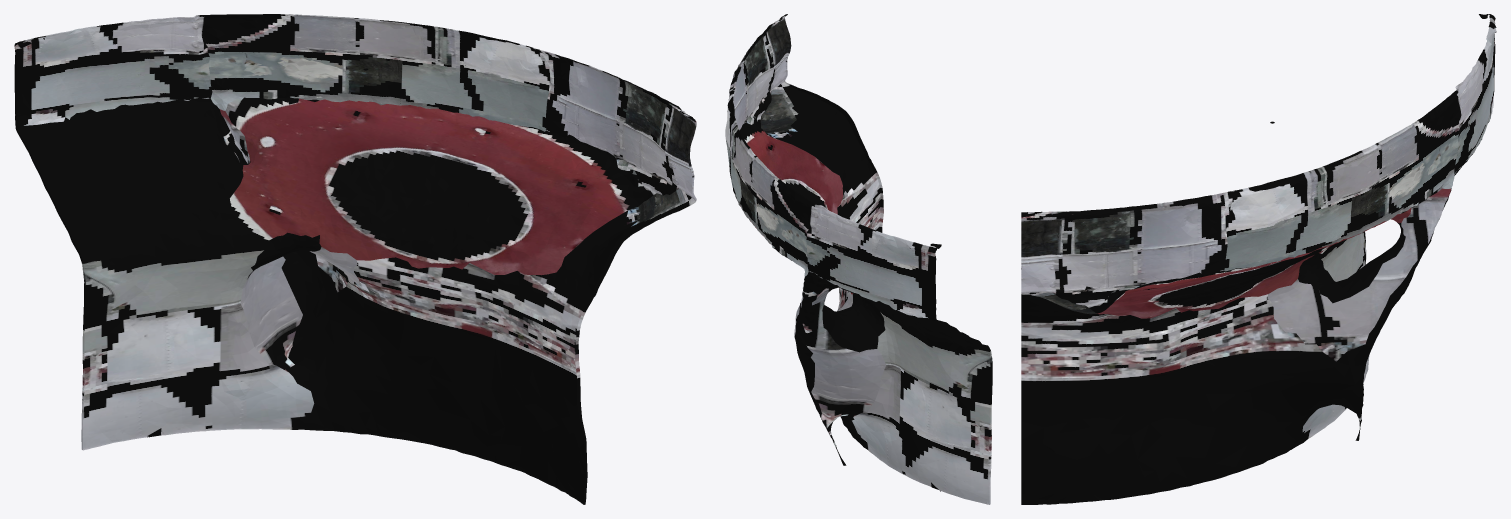
The picture shows the model from 3 angles, left to right: view 1: azimuth 30°, elevation 25°; view 2: azimuth 150°, elevation 25°; view 3: azimuth 270°, elevation 25°; orthographic projection. The views are drawn at different scales.
Visible parts, largest first — view 1: node_37; view 2: node_37; view 3: node_37.
Part boxes in pixels (x1=…): node_37: x1=14, y1=14, x2=696, y2=504; node_37: x1=725, y1=14, x2=992, y2=504; node_37: x1=1021, y1=14, x2=1496, y2=504.
Bounding box in the file's own units: 2.36 × 1.87 × 2.36.
Materials: 1 (1 with a texture image).
